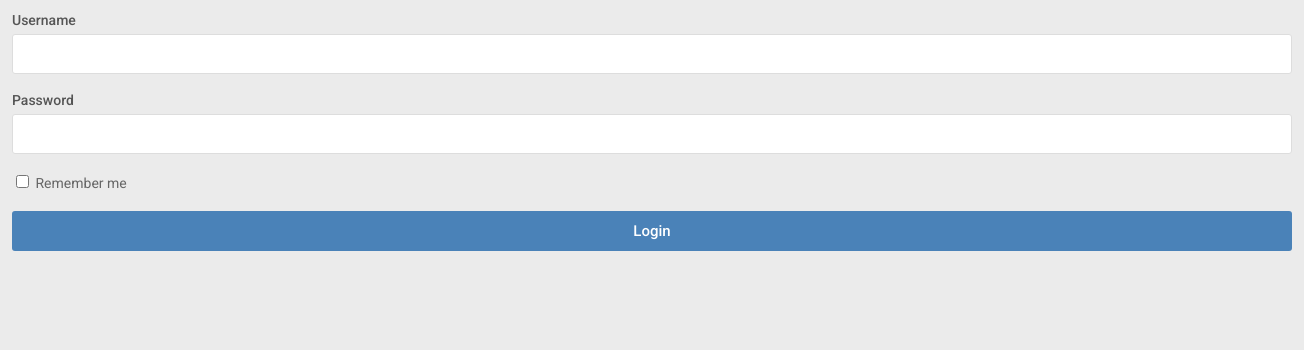
Test: shows invalid_credentials from the API as a form error and keeps the form usable
In the field labelled "Username": coordinates (652, 54) top-left (12, 34), bottom-right (1292, 74), type "alice"
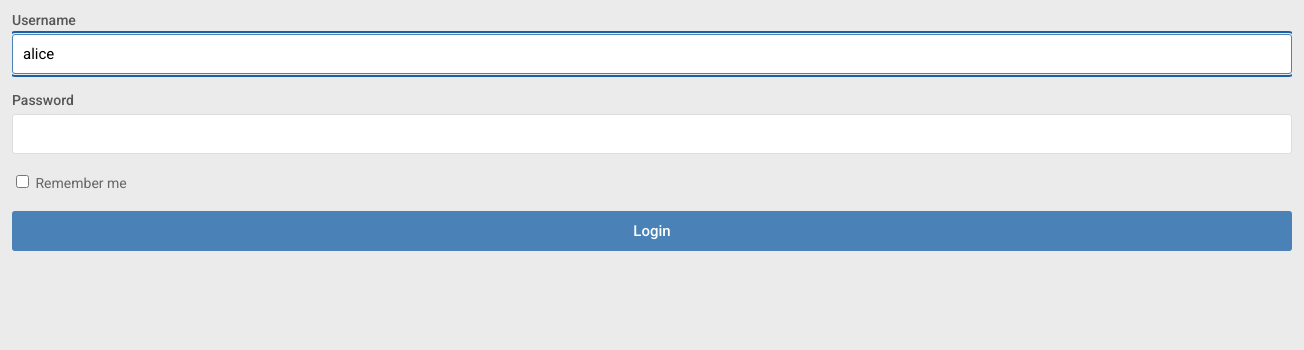
In the password field labelled "Password": coordinates (652, 134) top-left (12, 114), bottom-right (1292, 154), type "wrong password"
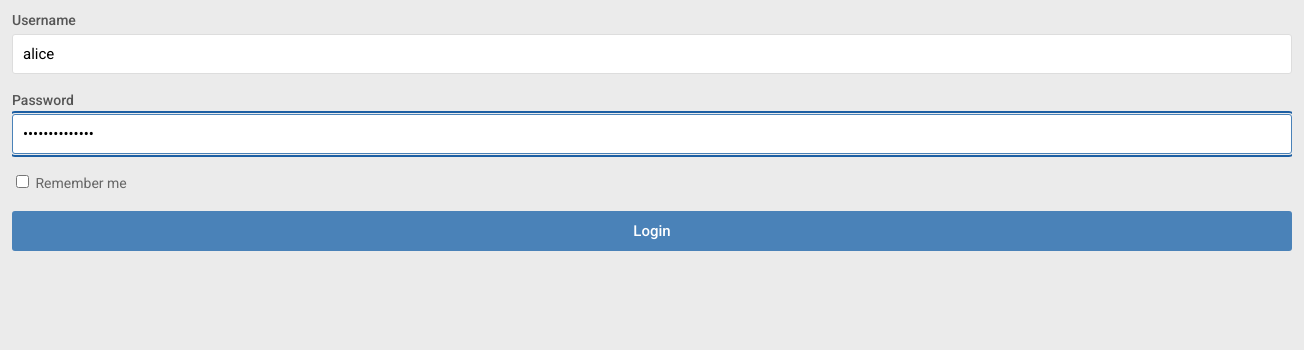
Click the button "Login": coordinates (652, 231) top-left (12, 211), bottom-right (1292, 251)
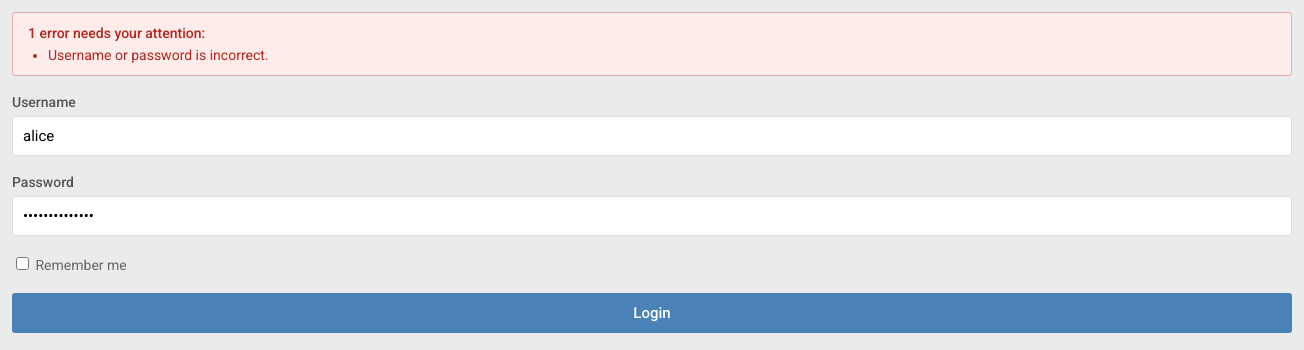
Expected: the button "Login" is enabled, top-left (12, 293), bottom-right (1292, 333)
Now the message shows "Username or password is incorrect.", box top-left (48, 47), bottom-right (268, 63)
